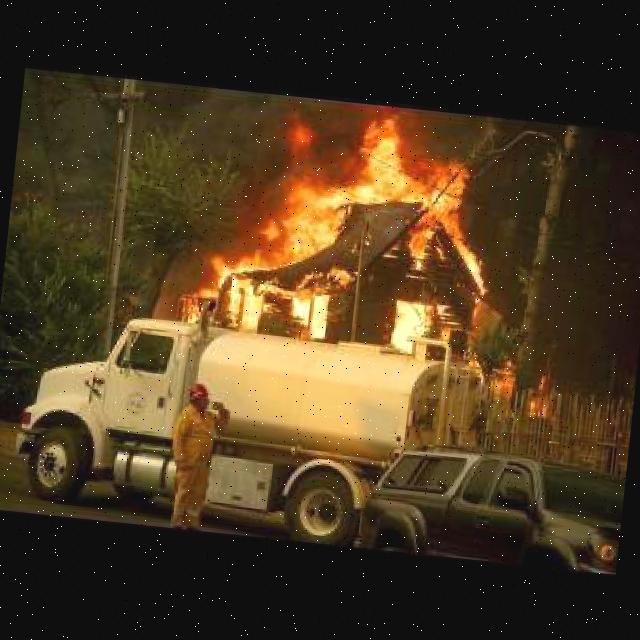Fire: (173, 92, 498, 354), (479, 354, 555, 423)
